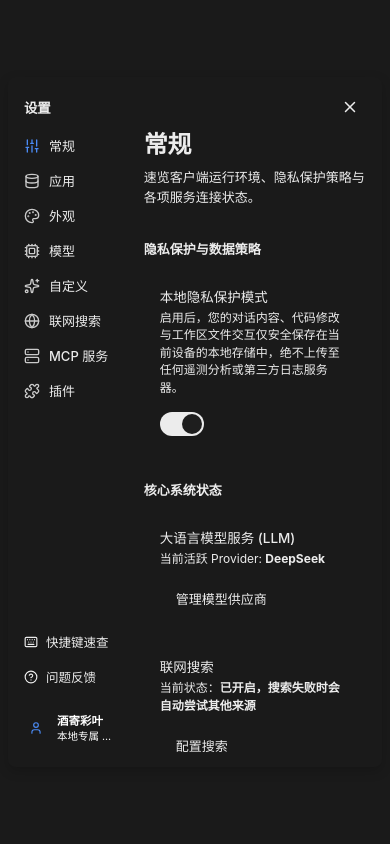
SettingsModal › 设置不再包含工作区管理和返回会话入口，联网搜索名称一致
Click the tab "联网搜索": (68, 320) [14,304,122,337]
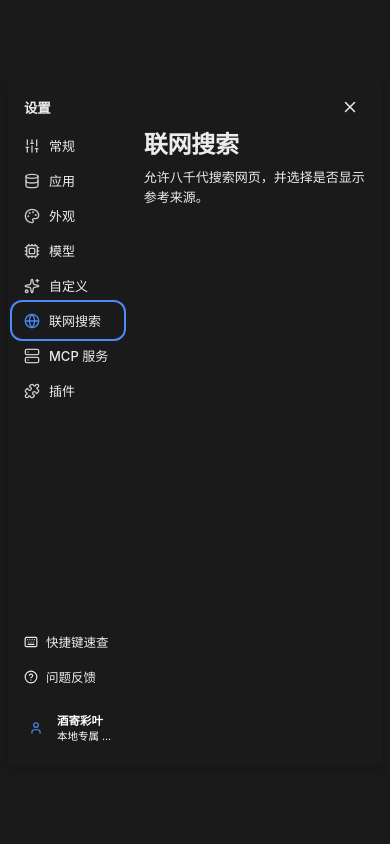
Expected: the heading "联网搜索" is shown, [144,130,239,159]
